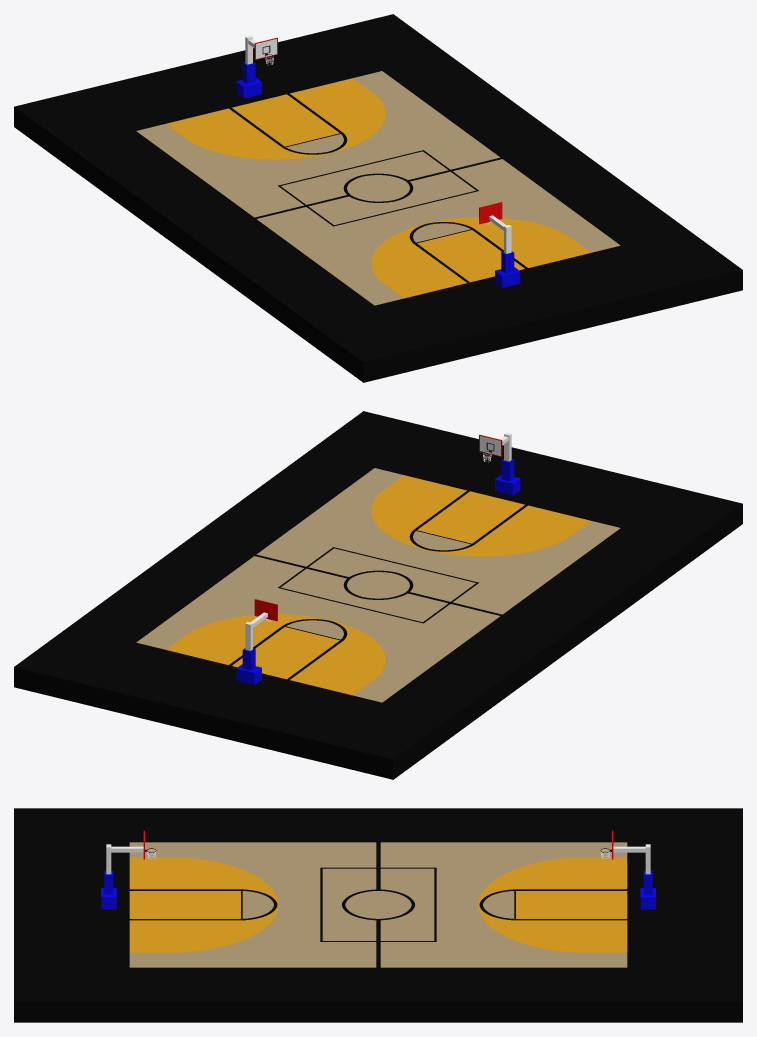
Rendered from court.fbx.
3 renders of one model, top to bottom at view 1: azimuth 30°, elevation 25°; view 2: azimuth 150°, elevation 25°; view 3: azimuth 270°, elevation 25°, orthographic. The views are drawn at different scales.
Parts seen in each view (by area): view 1: court-floor, ringstand.002, board.002; view 2: court-floor, ringstand.002, board.002; view 3: court-floor, ringstand.002.
Part boxes in pixels (x1,y1,x2,y2): court-floor: (14,14,742,382); ringstand.002: (236,35,520,287); board.002: (254,37,502,224); court-floor: (14,411,742,779); ringstand.002: (236,432,520,684); board.002: (254,434,502,621); court-floor: (14,808,742,1022); ringstand.002: (101,844,655,909).
Size of the model in its own units: 5837 by 1262 by 9314.
